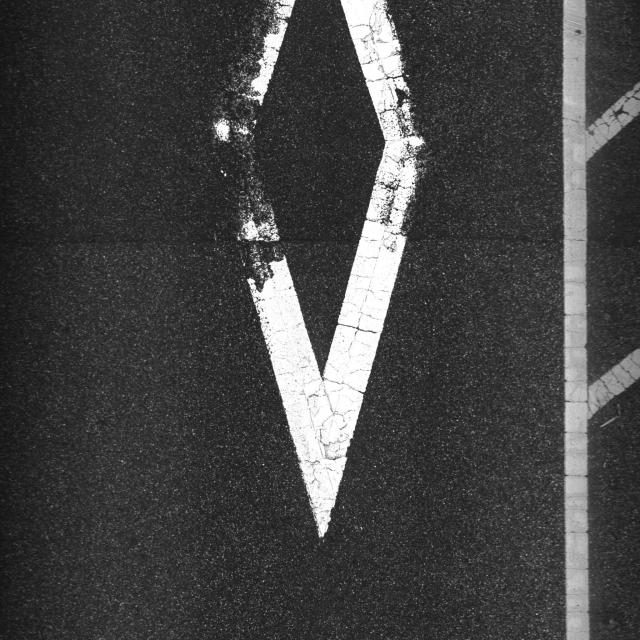diamond: (102, 3, 577, 544)
